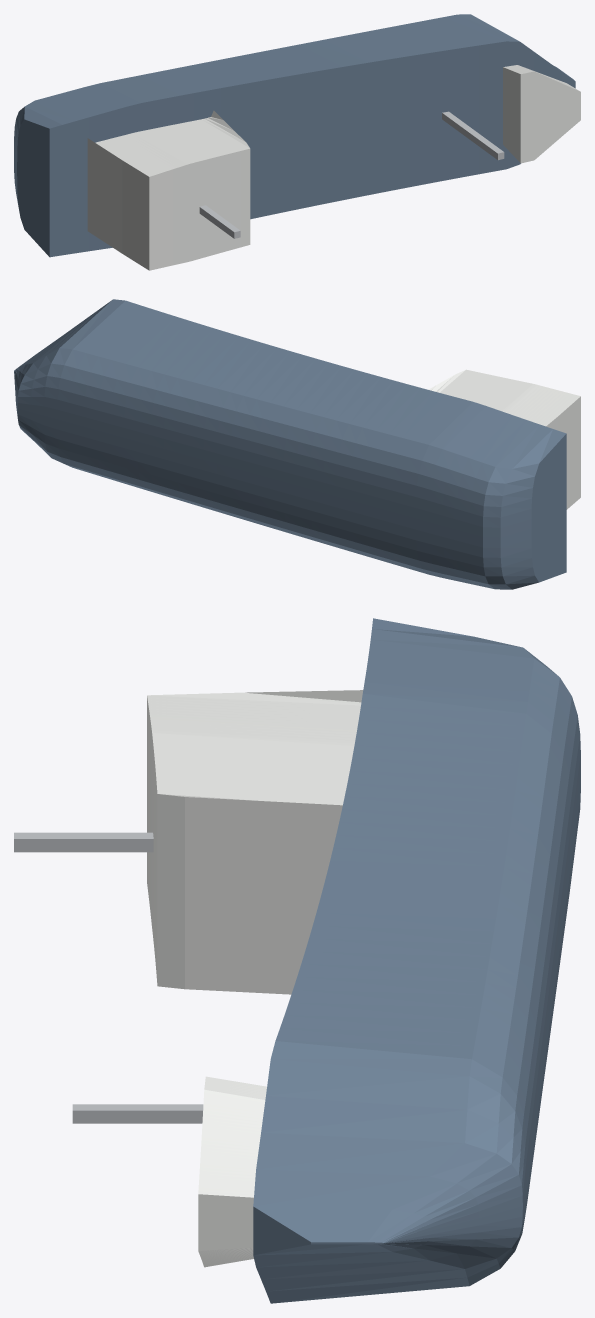
File: loft-aground-highside.glb
3 views of the same model, one above another, from view 1: azimuth 30°, elevation 25°; view 2: azimuth 150°, elevation 25°; view 3: azimuth 270°, elevation 25° (orthographic). The views are drawn at different scales.
Parts seen in each view (by area): view 1: loft-aground-highside; view 2: loft-aground-highside; view 3: loft-aground-highside.
Boxes of the visible parts, x1,y1,x2,y2 form: loft-aground-highside: (14,14,580,270); loft-aground-highside: (14,299,580,589); loft-aground-highside: (14,618,580,1303).
Size of the model in its own units: 1.92 by 0.5055 by 0.9268.
